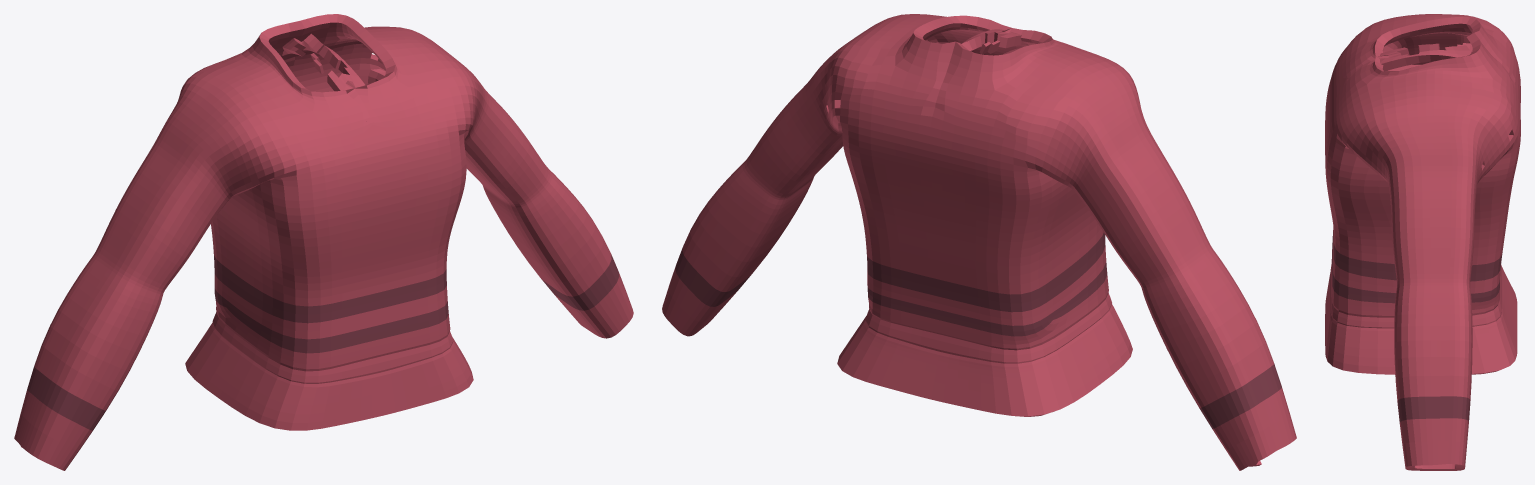
Rendered from Top 3.fbx.
3 renders of one model, left to right at view 1: azimuth 30°, elevation 25°; view 2: azimuth 150°, elevation 25°; view 3: azimuth 270°, elevation 25°, orthographic. The views are drawn at different scales.
Parts seen in each view (by area): view 1: Top 3; view 2: Top 3; view 3: Top 3.
Part boxes in pixels (x1=…): Top 3: x1=14, y1=14, x2=633, y2=470; Top 3: x1=662, y1=14, x2=1296, y2=470; Top 3: x1=1325, y1=14, x2=1520, y2=470.
Size of the model in its own units: 173 by 99.06 by 54.63.
